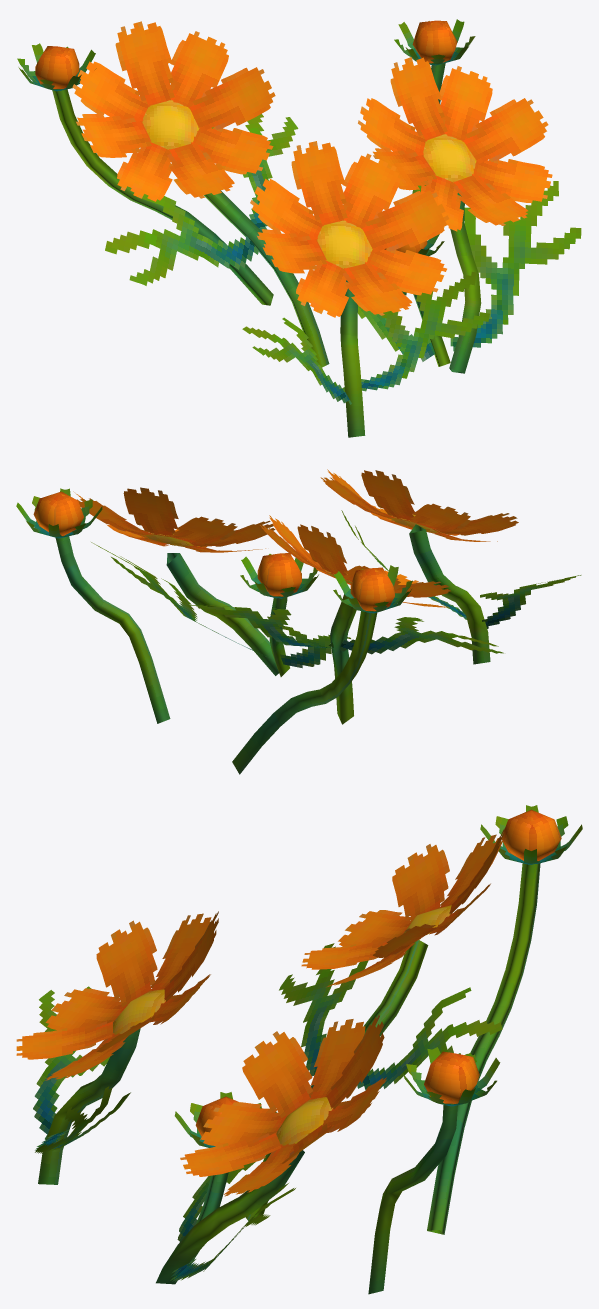
Rendered from orange-cosmos.glb.
3 renders of one model, top to bottom at view 1: azimuth 30°, elevation 25°; view 2: azimuth 150°, elevation 25°; view 3: azimuth 270°, elevation 25°, orthographic. The views are drawn at different scales.
Bounding box in the file's own units: 10.23 × 6.53 × 9.6.
2 materials, 2 textured.
